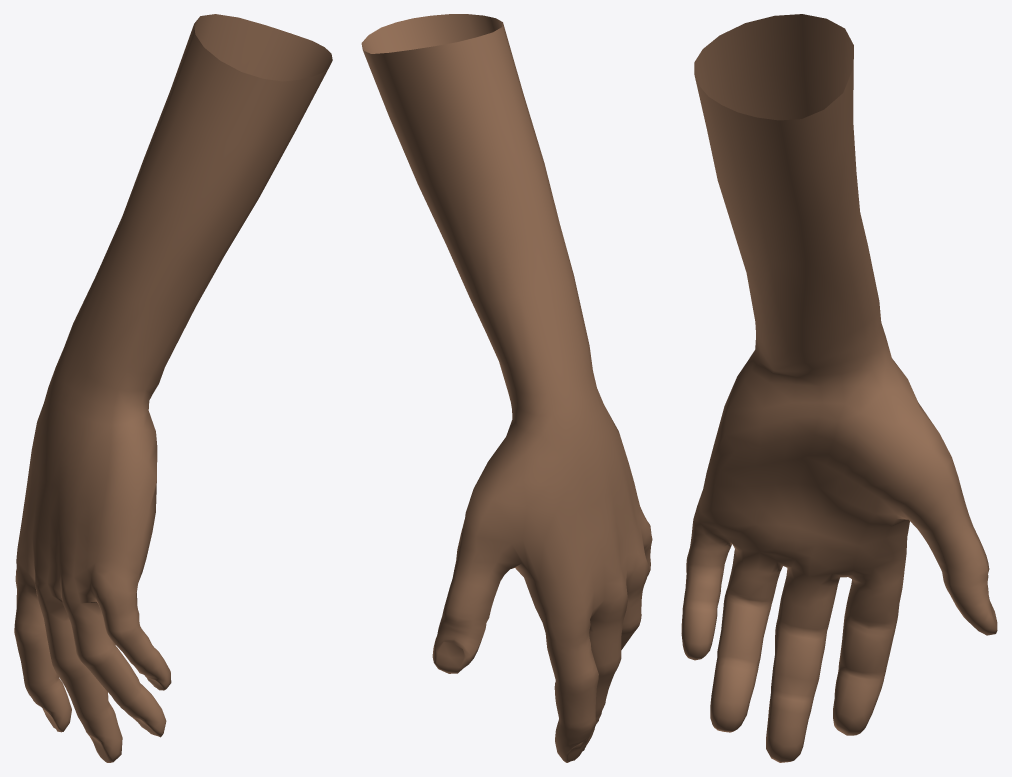
Rendered from HandSlimDummy.FBX.
The picture shows the model from 3 angles, left to right: view 1: azimuth 30°, elevation 25°; view 2: azimuth 150°, elevation 25°; view 3: azimuth 270°, elevation 25°; orthographic projection. The views are drawn at different scales.
Visible parts, largest first — view 1: HandSlim_Dummy; view 2: HandSlim_Dummy; view 3: HandSlim_Dummy.
Part boxes in pixels (x1=…): HandSlim_Dummy: x1=14, y1=14, x2=332, y2=762; HandSlim_Dummy: x1=361, y1=14, x2=652, y2=762; HandSlim_Dummy: x1=681, y1=14, x2=997, y2=762.
Bounding box in the file's own units: 9.03 × 22.13 × 7.9.
